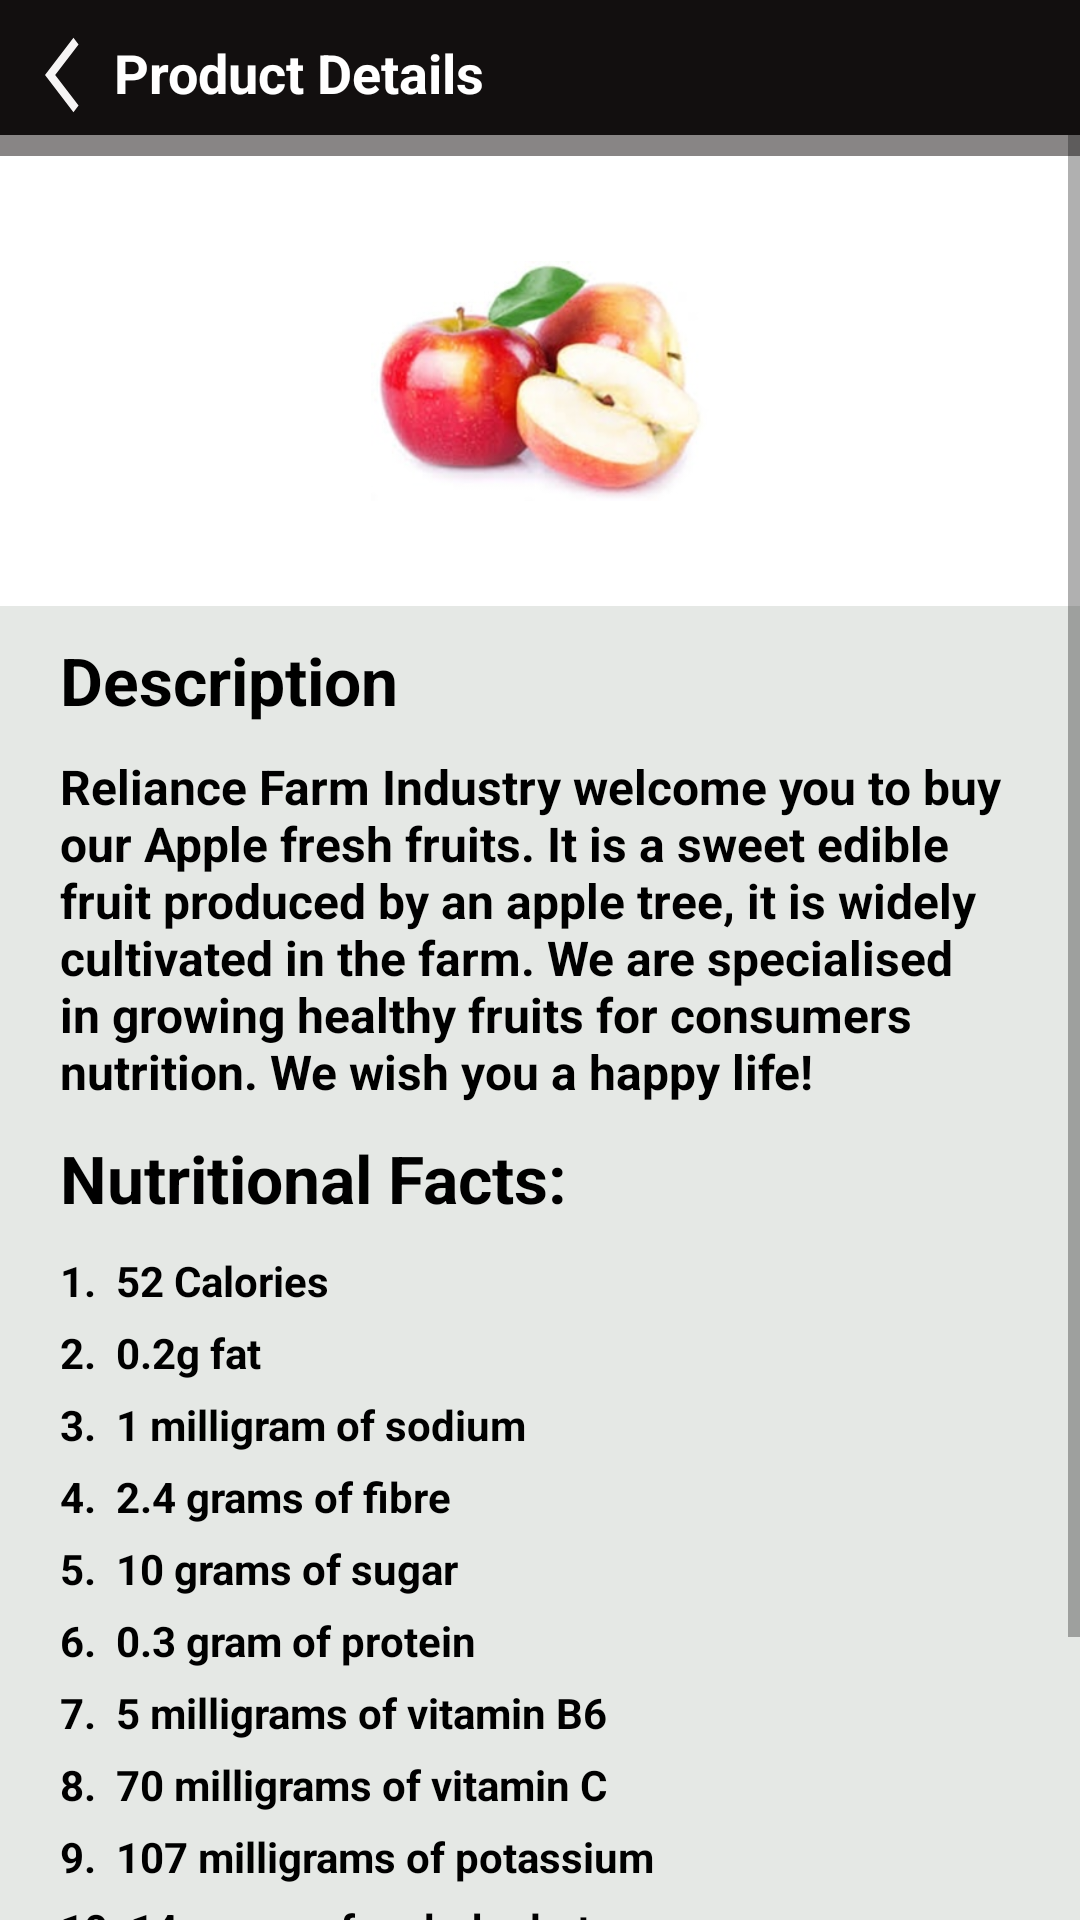

Point at icon controls on the screen. Image size 1080 × 1920, points as point (x, y).
apple: point (539, 380)
arrow back: point (62, 75)
